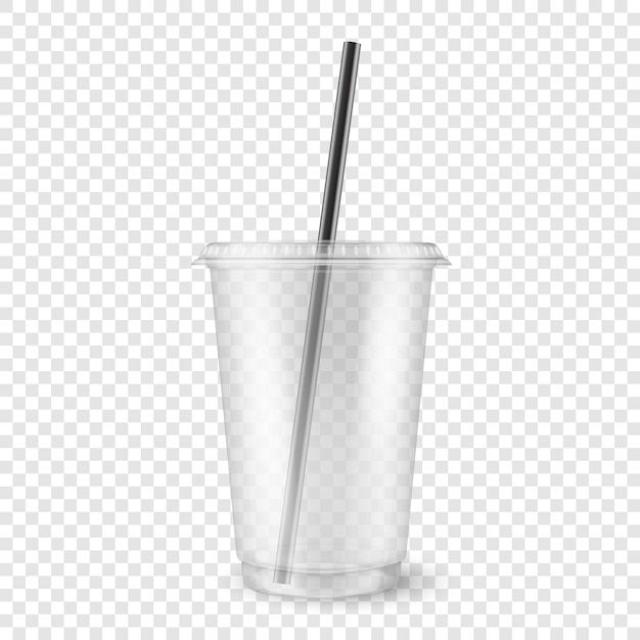plastic cup: (193, 240, 449, 600)
